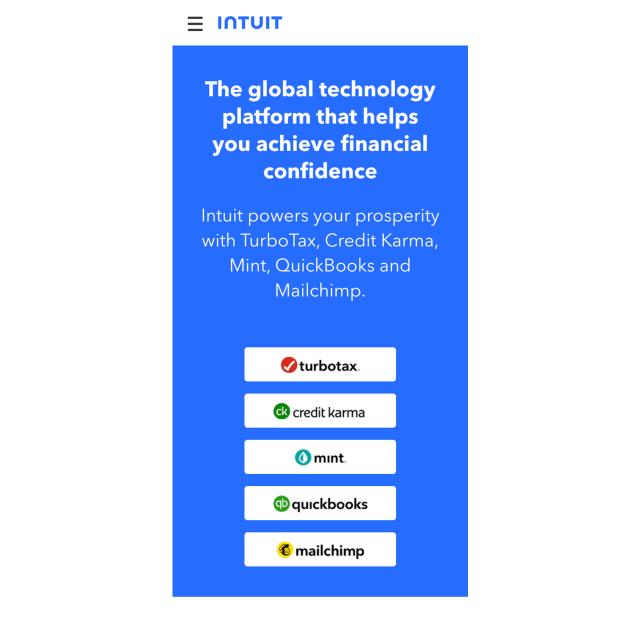logo: (214, 11, 285, 32)
navigation: (184, 12, 204, 34)
